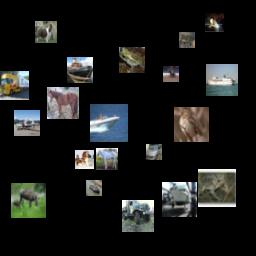airplane: (14, 110, 40, 136)
automobile: (146, 144, 162, 160)
bird: (174, 107, 209, 142)
deer: (11, 183, 46, 218)
dog: (35, 21, 57, 43), (75, 150, 94, 169)
frog: (198, 169, 236, 207), (119, 47, 145, 73), (179, 32, 195, 48)
ship: (90, 104, 128, 142), (162, 182, 197, 217), (206, 64, 238, 96), (67, 57, 93, 83), (205, 13, 224, 32), (86, 180, 102, 196)
truck: (122, 200, 154, 232), (0, 71, 29, 100)
